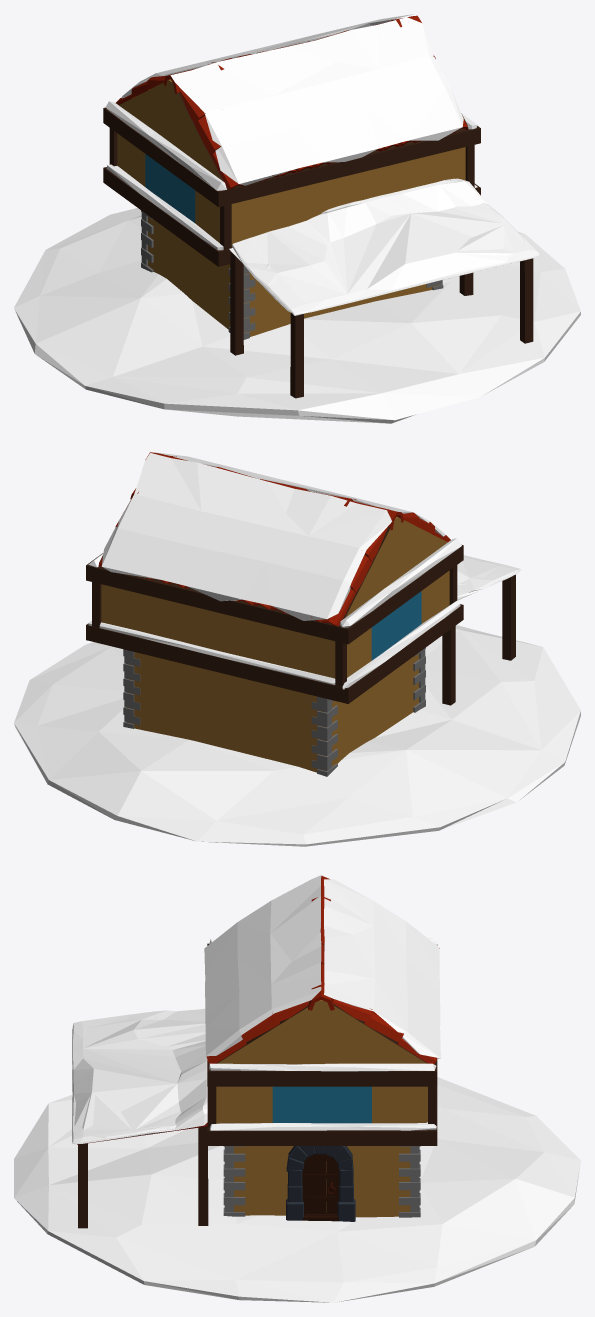
File: BakeryWSnow_01.obj
The picture shows the model from 3 angles, top to bottom: view 1: azimuth 30°, elevation 25°; view 2: azimuth 150°, elevation 25°; view 3: azimuth 270°, elevation 25°; orthographic projection.
Parts seen in each view (by area): view 1: BakeryWSnow_01_Cube.001; view 2: BakeryWSnow_01_Cube.001; view 3: BakeryWSnow_01_Cube.001.
Part boxes in pixels (left/top/right/bottom): BakeryWSnow_01_Cube.001: left=14, top=14, right=580, bottom=423; BakeryWSnow_01_Cube.001: left=14, top=452, right=580, bottom=846; BakeryWSnow_01_Cube.001: left=14, top=875, right=580, bottom=1302.
Bounding box in the file's own units: 18.67 × 9.82 × 18.77.
